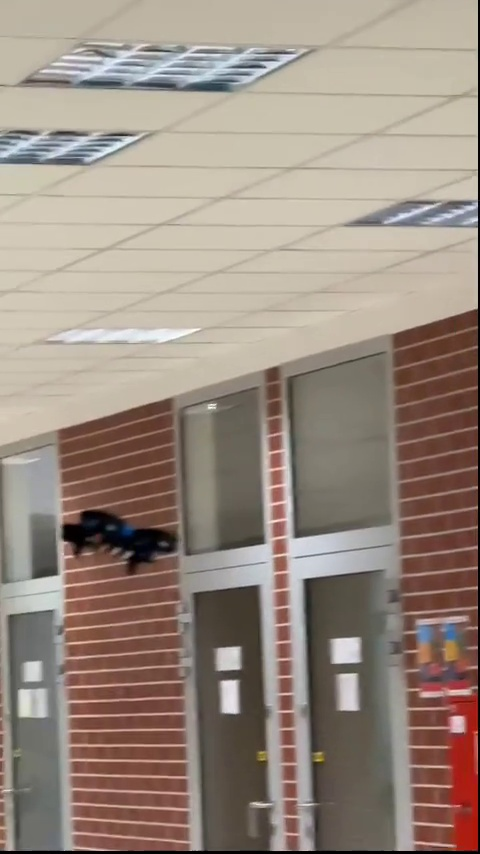drone: (55, 507, 174, 579)
